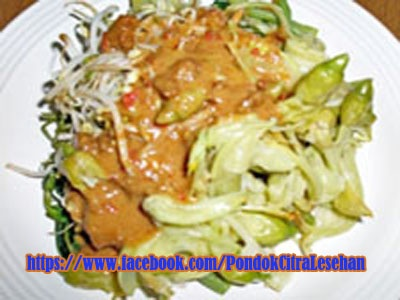pecel: (39, 8, 370, 254)
